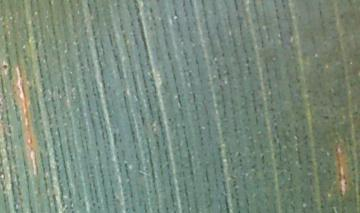tarspot: (1, 59, 11, 76)
